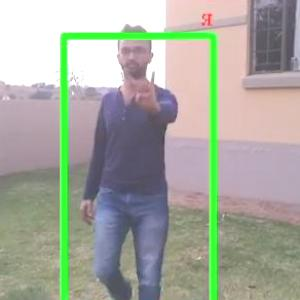takeoff-hand: (122, 63, 168, 116)
